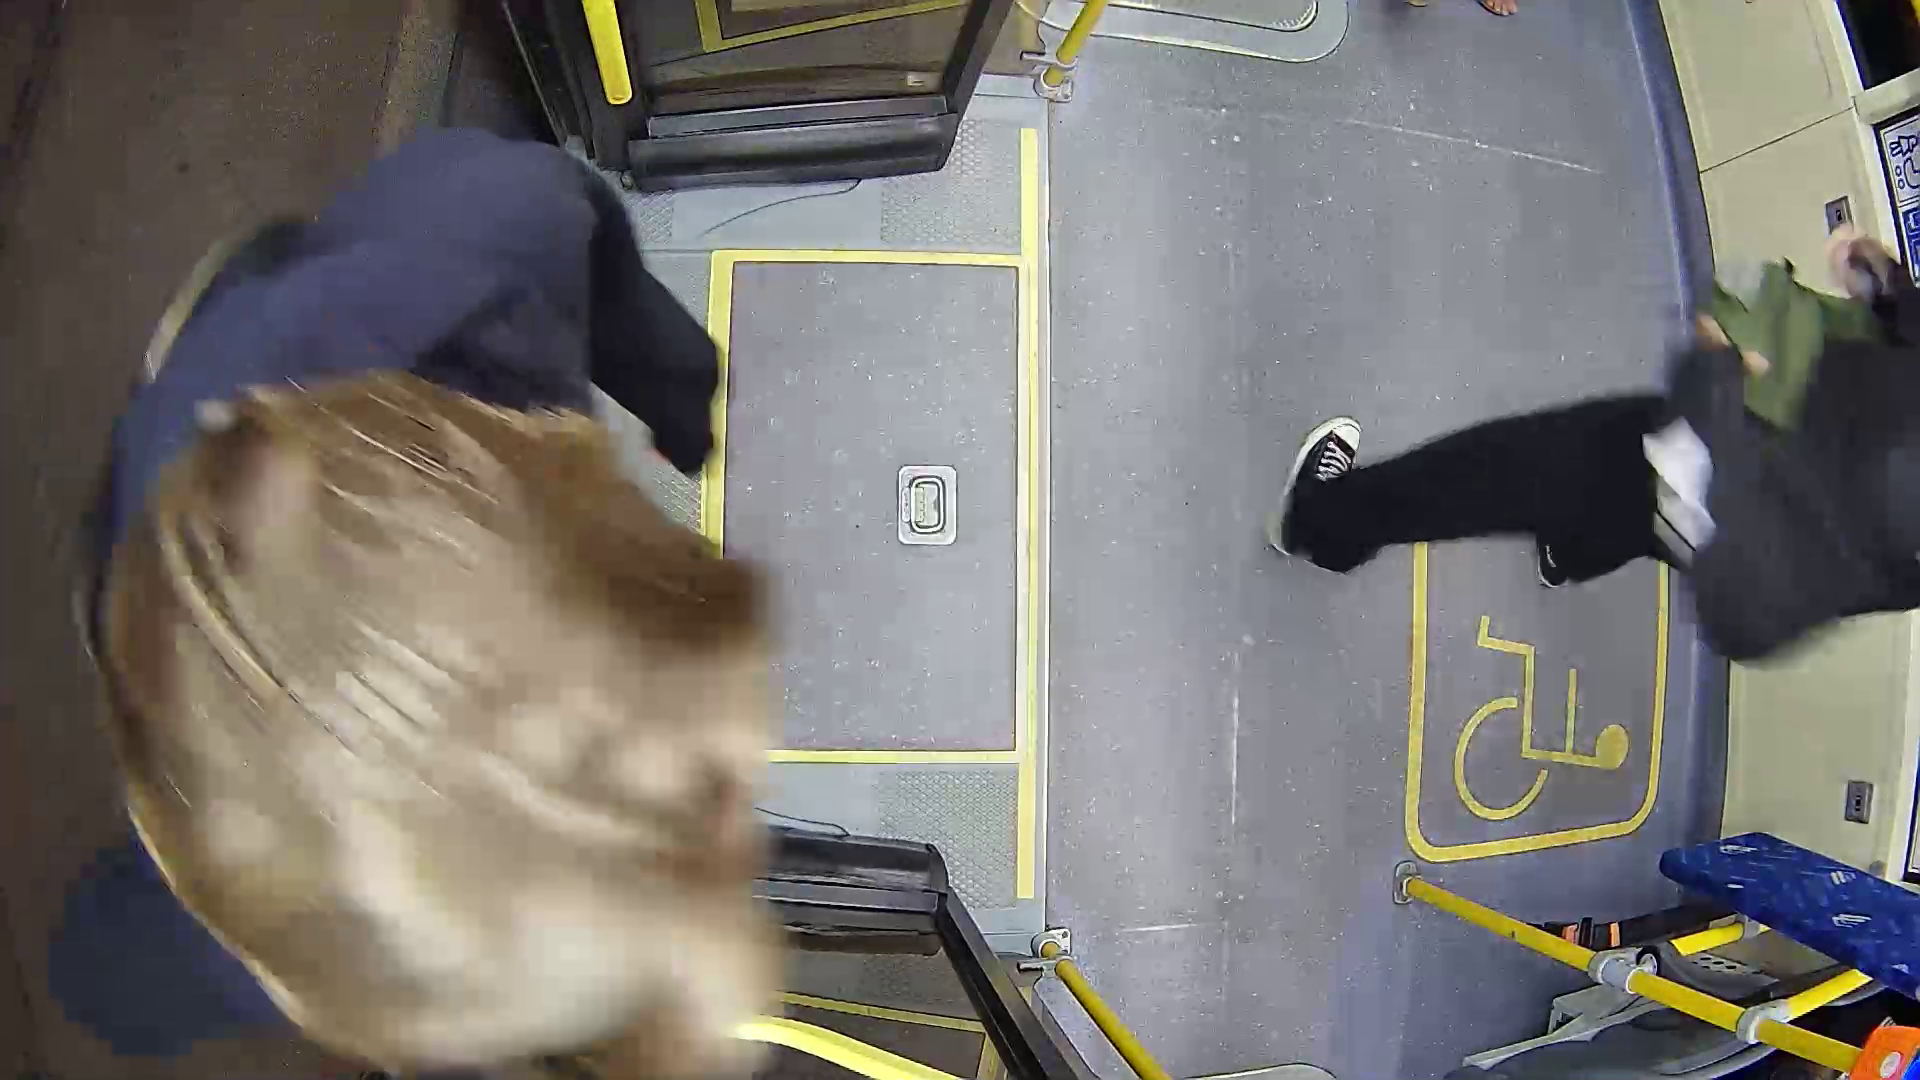person: (88, 158, 848, 1080)
